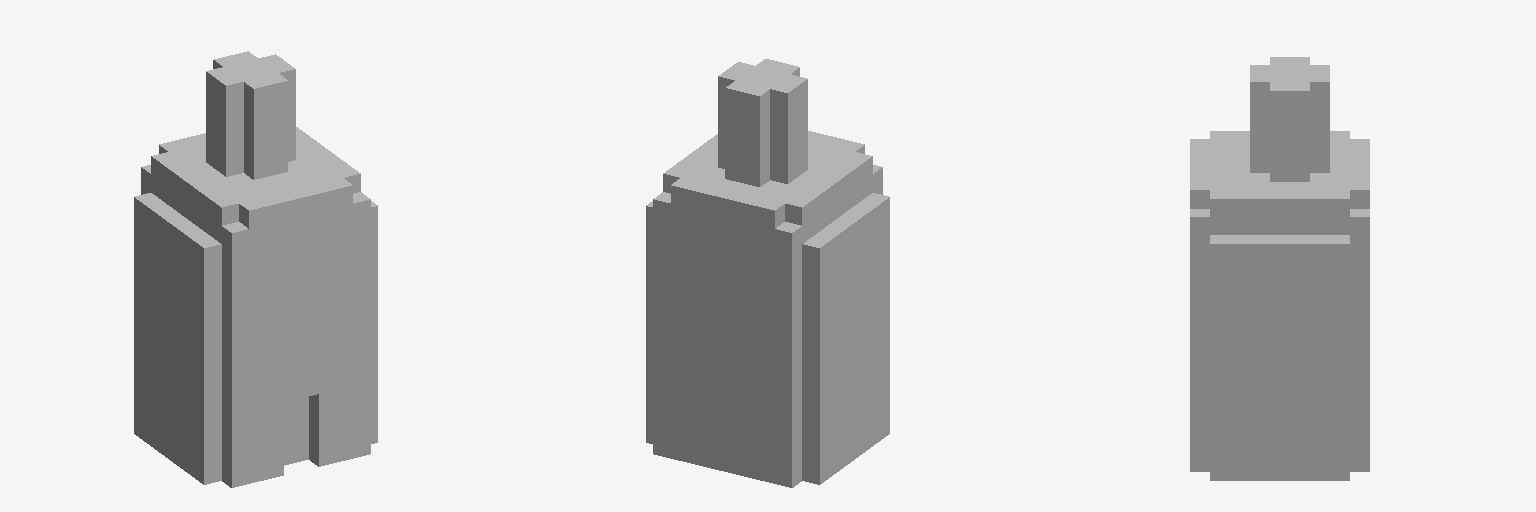
File: viPechka.obj
3 renders of one model, left to right at view 1: azimuth 30°, elevation 25°; view 2: azimuth 150°, elevation 25°; view 3: azimuth 270°, elevation 25°, orthographic.
Parts seen in each view (by area): view 1: object 1; view 2: object 1; view 3: object 1.
Boxes of the visible parts, x1=… form: object 1: x1=134, y1=51, x2=377, y2=487; object 1: x1=646, y1=59, x2=889, y2=487; object 1: x1=1190, y1=57, x2=1369, y2=480.
Bounding box in the file's own units: 1 × 2 × 0.9.